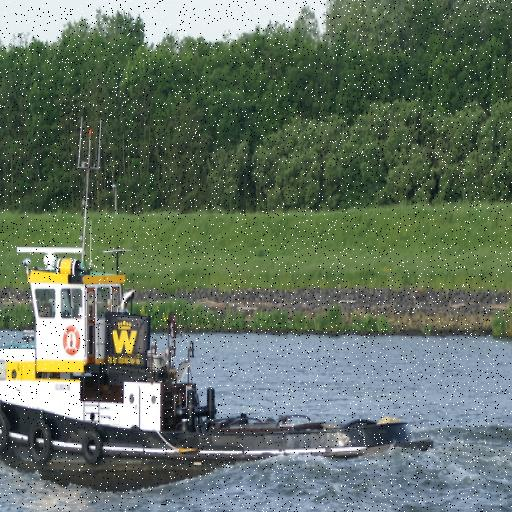tugboat: (1, 110, 446, 512)
